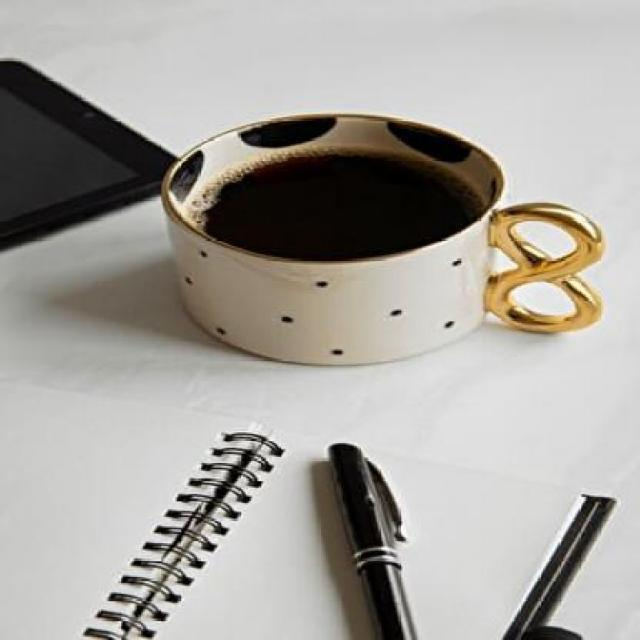taza: (160, 110, 605, 370)
